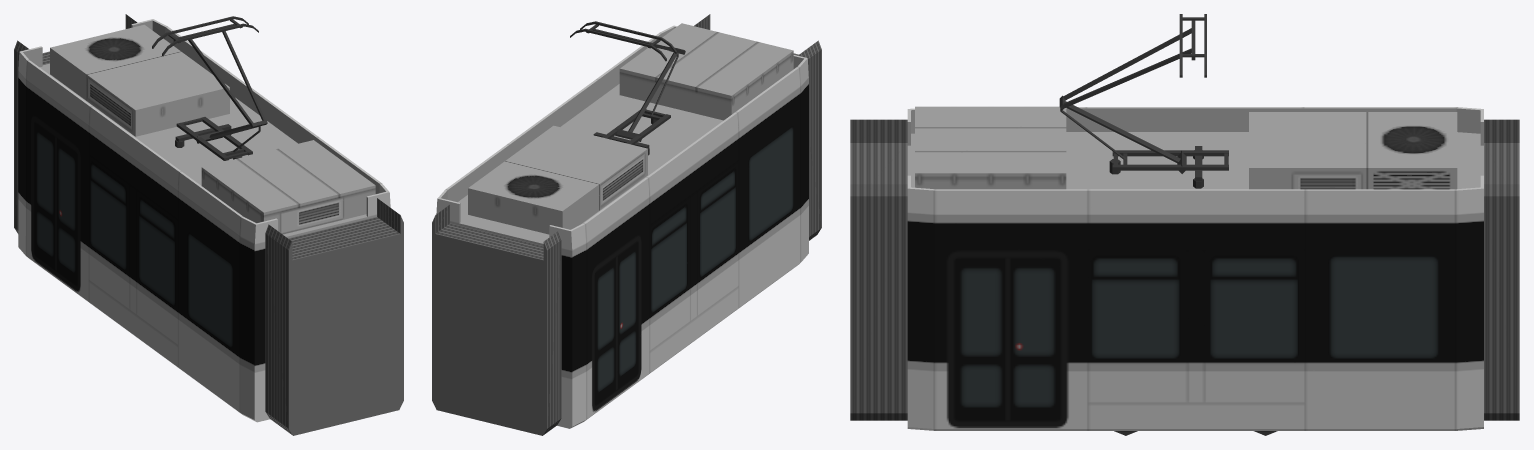
Rendered from AvenioTail.fbx.
The picture shows the model from 3 angles, left to right: view 1: azimuth 30°, elevation 25°; view 2: azimuth 150°, elevation 25°; view 3: azimuth 270°, elevation 25°; orthographic projection. The views are drawn at different scales.
Parts seen in each view (by area): view 1: Avenio1; view 2: Avenio1; view 3: Avenio1.
Boxes of the visible parts, left/top/right/bottom form: Avenio1: left=14, top=14, right=403, bottom=435; Avenio1: left=432, top=14, right=821, bottom=435; Avenio1: left=850, top=14, right=1519, bottom=435.
Size of the model in its own units: 240 by 494 by 800.
1 material, 1 textured.
